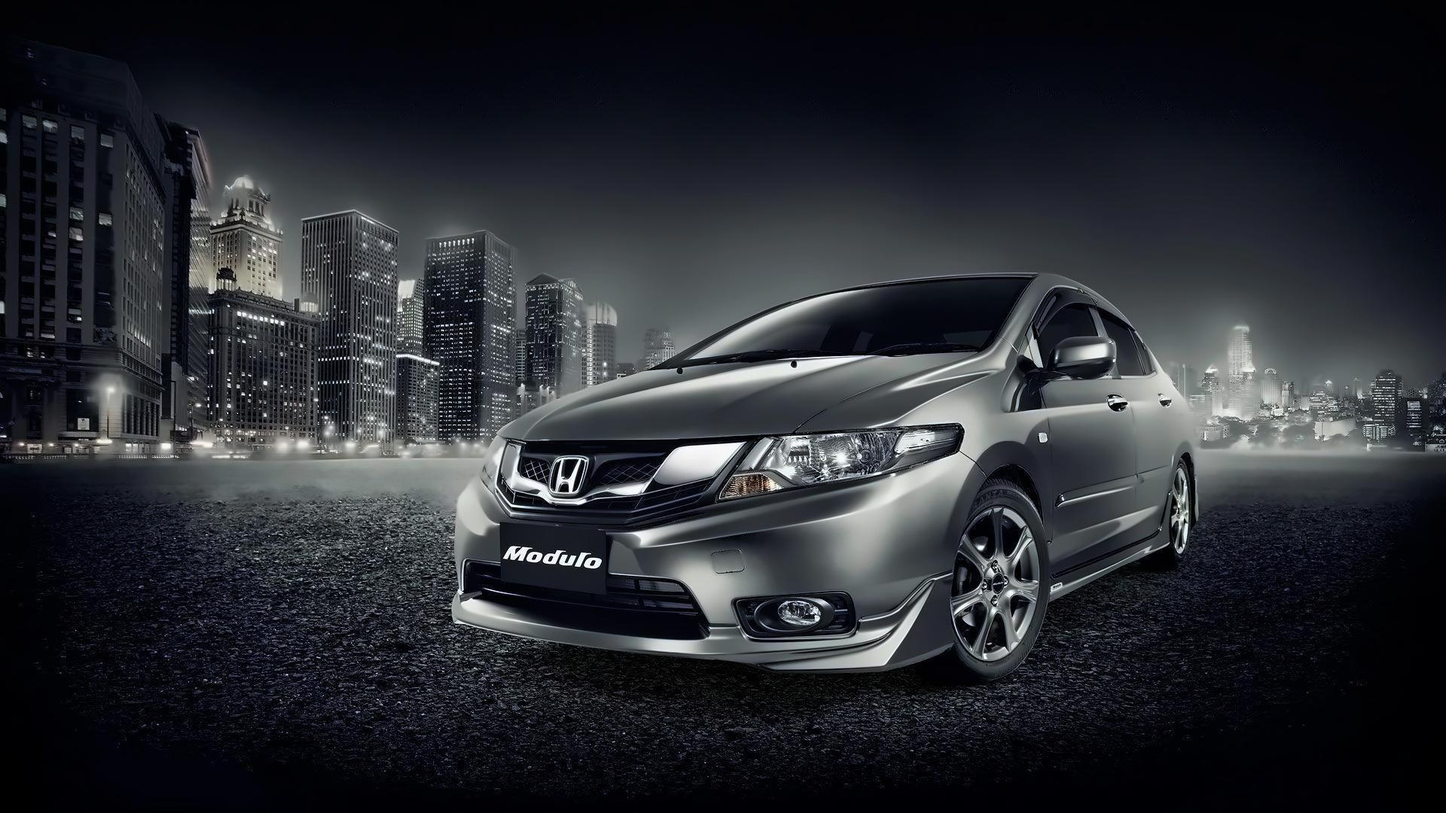Car hood: (497, 335, 988, 443)
Fender - -F-L-: (905, 343, 1063, 575)
Front bumper: (447, 452, 984, 674)
Headlight - -L-: (708, 419, 968, 502)
Headlight - -R-: (473, 433, 521, 518)
Passenger-s door - -F-L-: (1018, 262, 1141, 601)
Passenger-s door - -R-L-: (1078, 275, 1175, 585)
Side bumper - -L-: (1036, 501, 1174, 631)
Side mirror - -L-: (1038, 335, 1115, 408)
